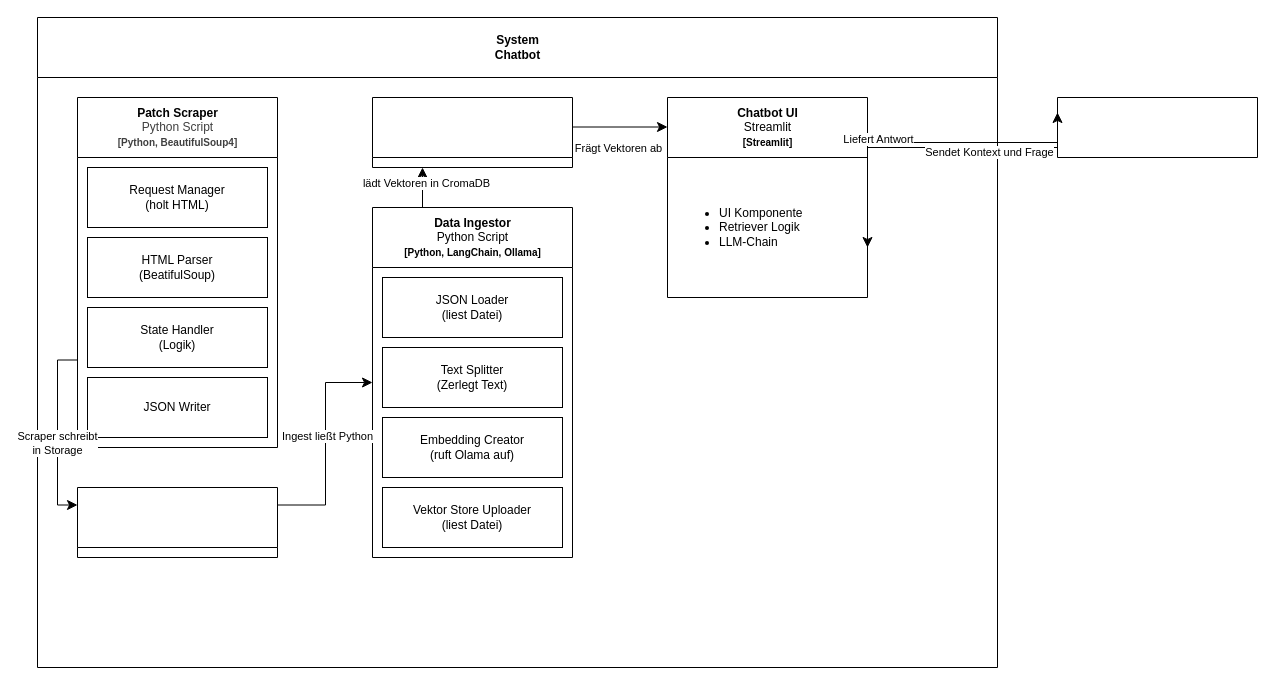
This 1275x685 diagram has some shape labels left out. The shapes that lost their labels are listed below. From the top down, each one's centre as x and y in pixels, then its label:
At (472,132): "Vektor Datenbank ChromaDB [ChromaDB]".
At (1157,127): "External System Ollama Lokal [Local LLM Runtime]".
At (177,522): "JSON Storage Locale Dateien [Container]".
